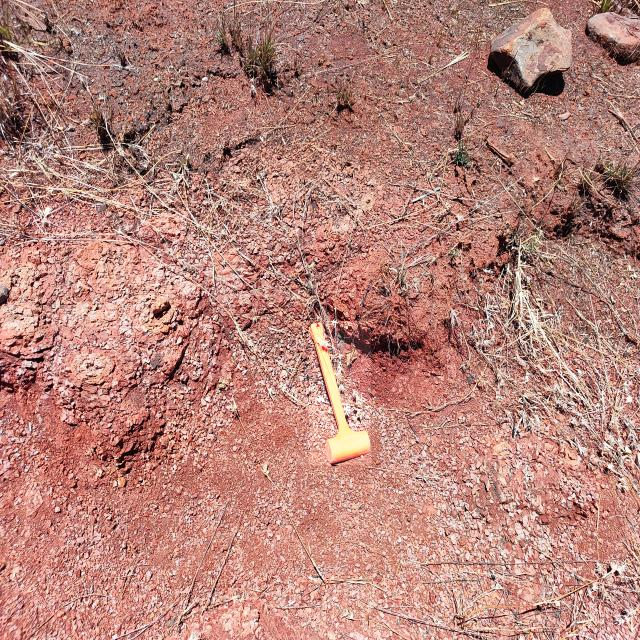Orange_hammer: (309, 322, 372, 466)
